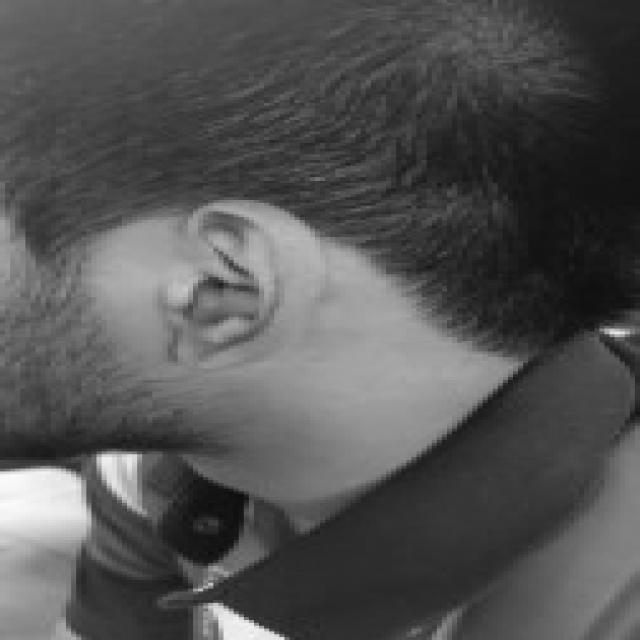ear: (163, 200, 320, 360)
